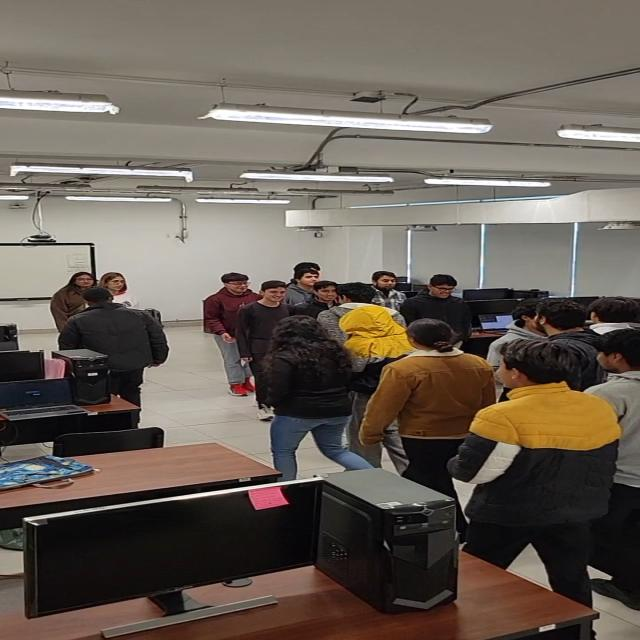Persona: (442, 334, 609, 616), (354, 317, 516, 484), (257, 316, 374, 478), (584, 323, 640, 610), (54, 283, 171, 417), (200, 270, 268, 395), (496, 299, 640, 346), (233, 279, 303, 365), (343, 304, 426, 375), (50, 269, 137, 331), (321, 282, 412, 340), (403, 275, 486, 324), (285, 259, 338, 307), (362, 272, 420, 312)
